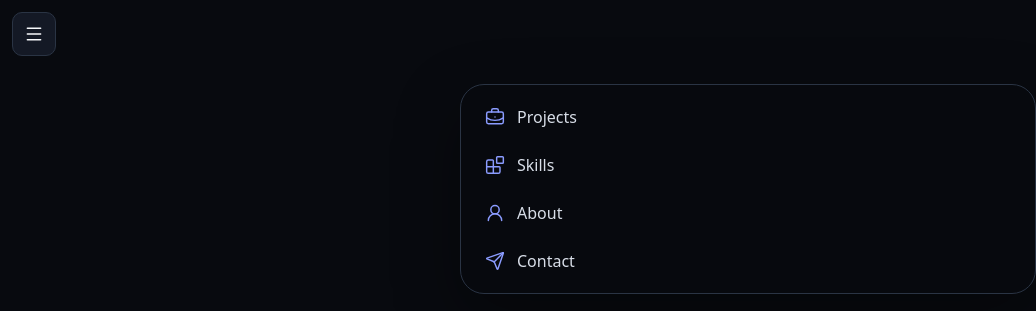
Scenario: site navigation › closes the disclosure when a navigation link is activated
Click the button named "Open navigation menu": (34, 34) [12,12,56,56]
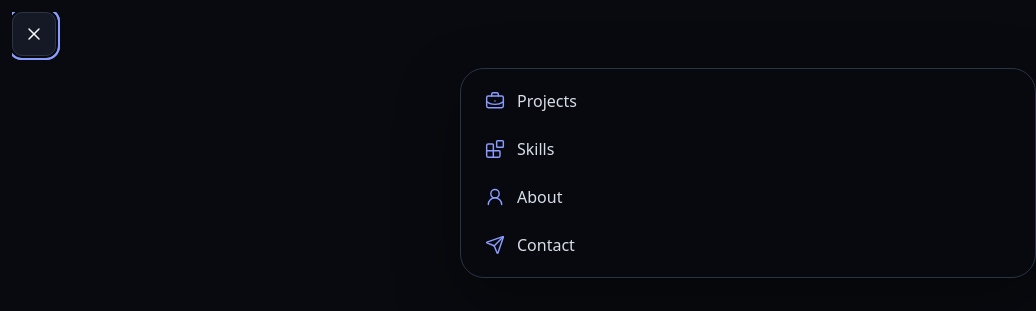
Click the link "Contact": (530, 245) [485,234,575,256]
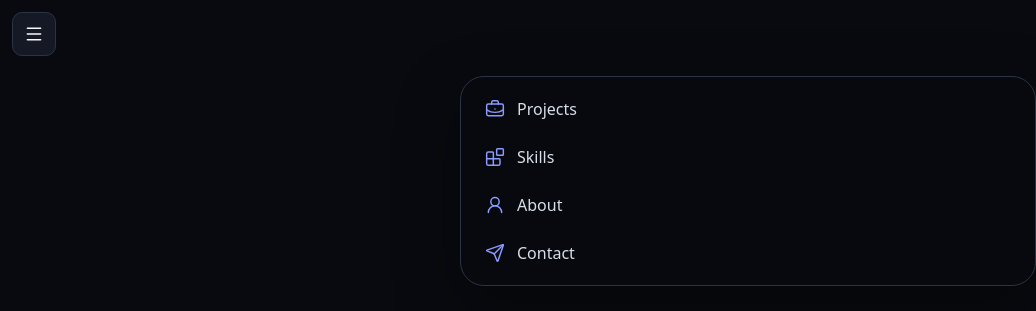
Expected: the button named "Open navigation menu" is collapsed, [12,12,56,56]
